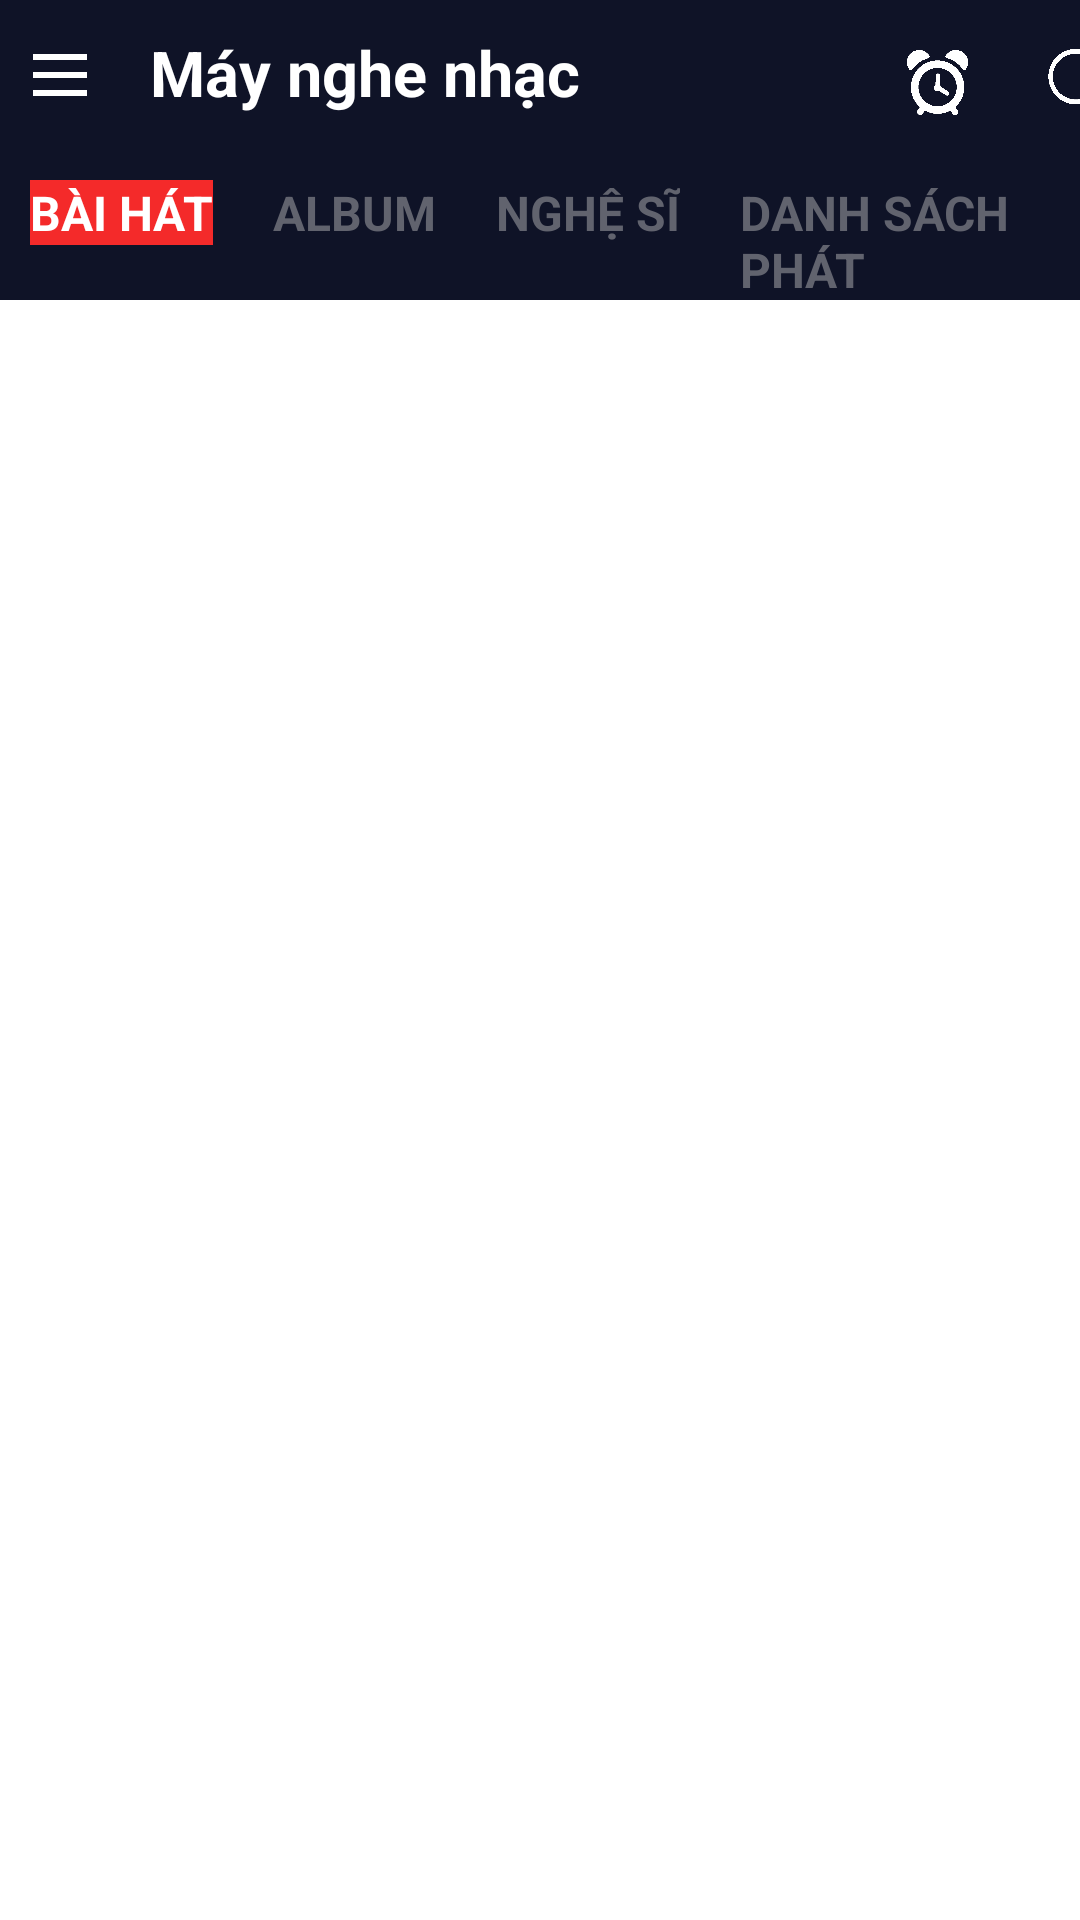

Named icons in this screenshot (1080w x 1920h) and their bounding boxes, rect(x1, y1, x2, y2):
menu: rect(33, 54, 87, 96)
oclock: rect(907, 50, 968, 115)
